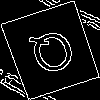Q: (26, 25, 82, 85)
